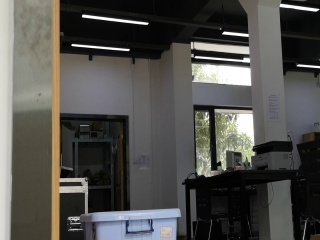room: (5, 1, 318, 240)
